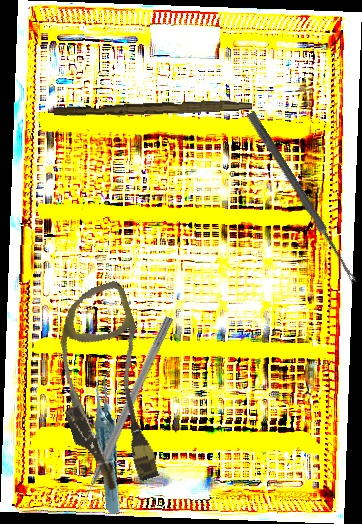Cannula: (31, 278, 182, 498)
Pusher: (71, 314, 175, 516)
Scalpel Handle: (53, 95, 253, 121)
Surgical Spoon: (245, 110, 360, 286)
Tissue Forceps: (76, 366, 143, 516)
